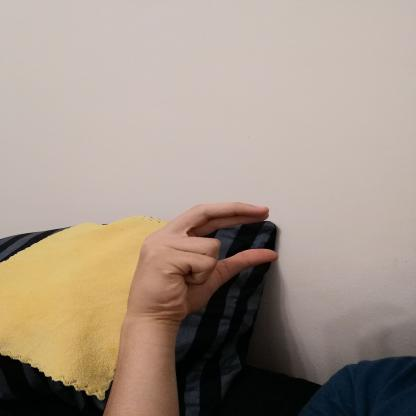DHELL: (115, 195, 286, 331)
